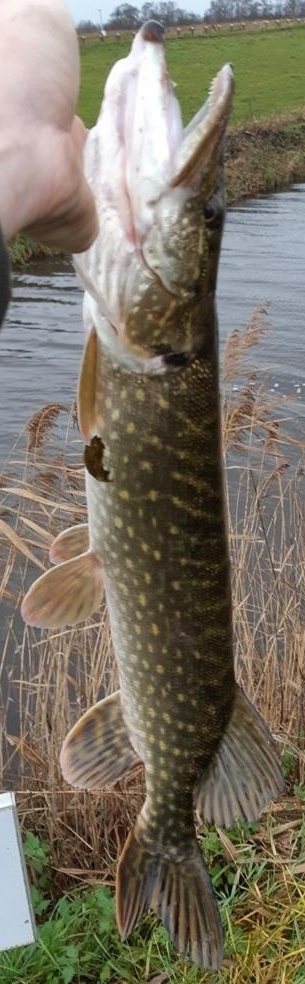Esox lucius: (20, 20, 285, 967)
